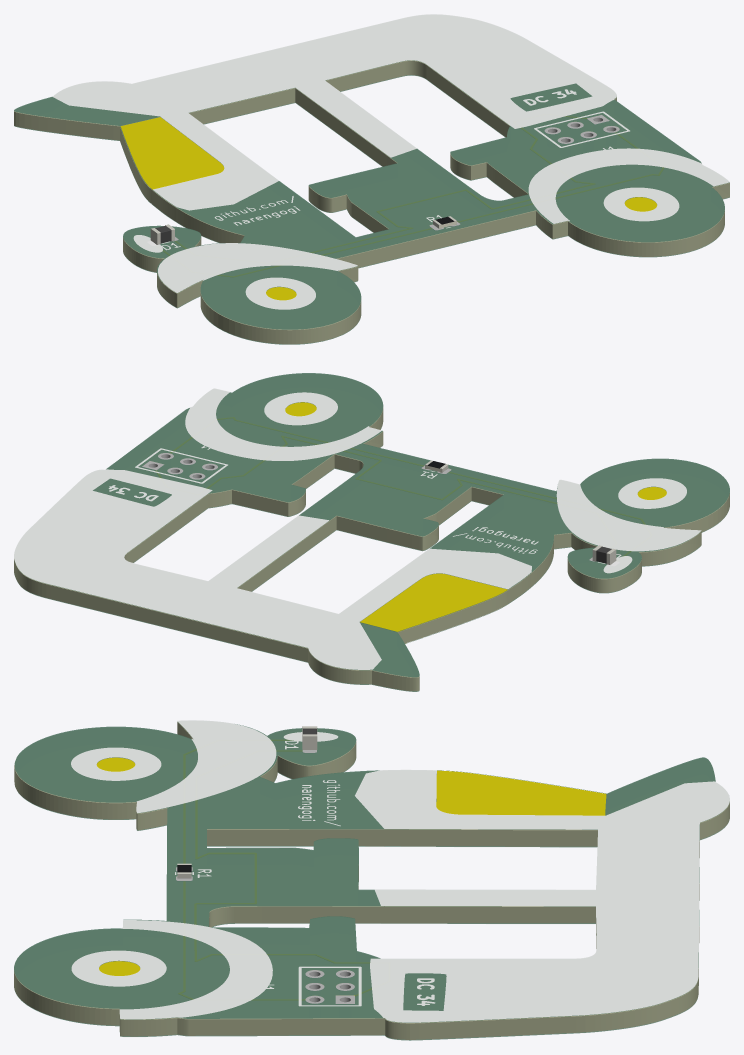
The model's file is shitty-add-on.glb.
3 views of the same model, one above another, from view 1: azimuth 30°, elevation 25°; view 2: azimuth 150°, elevation 25°; view 3: azimuth 270°, elevation 25° (orthographic). The views are drawn at different scales.
Visible parts, largest first — view 1: =>[0:1:1:8], =>[0:1:1:3]; view 2: =>[0:1:1:8], =>[0:1:1:3]; view 3: =>[0:1:1:8], =>[0:1:1:3].
Boxes of the visible parts, bbox=[...] form: =>[0:1:1:8]: bbox=[14, 14, 729, 344]; =>[0:1:1:3]: bbox=[120, 115, 663, 300]; =>[0:1:1:8]: bbox=[14, 373, 729, 691]; =>[0:1:1:3]: bbox=[142, 402, 666, 631]; =>[0:1:1:8]: bbox=[14, 720, 729, 1040]; =>[0:1:1:3]: bbox=[96, 726, 606, 1003].
Bounding box in the file's own units: 0.0598 × 0.00292 × 0.0598.
Materials: 2 (2 with a texture image).
